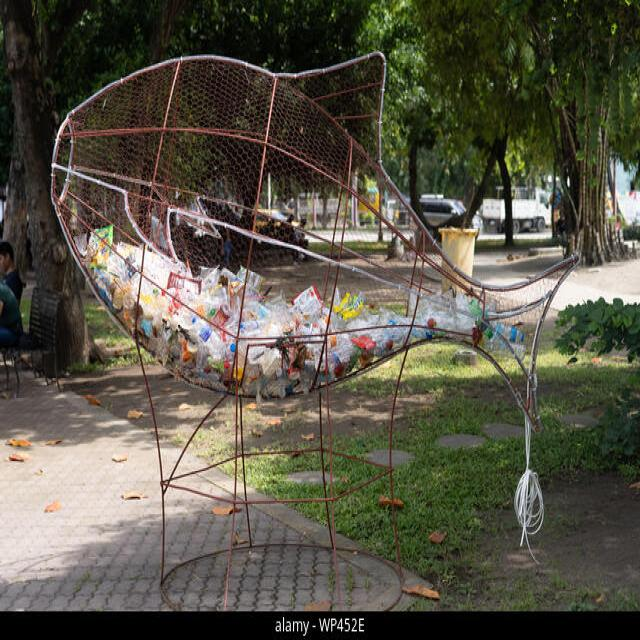metal: (215, 308, 228, 325)
plastic: (495, 321, 527, 362)
trash: (84, 230, 253, 305), (287, 292, 380, 385)
